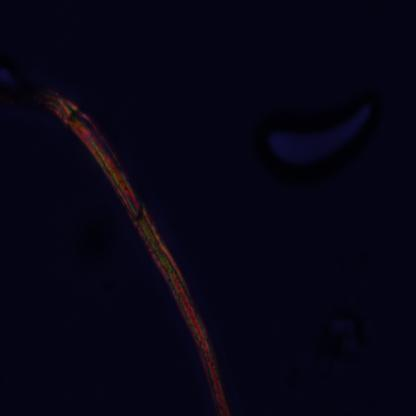Air bubble: (256, 90, 378, 173)
Microfibre: (11, 71, 232, 414)
